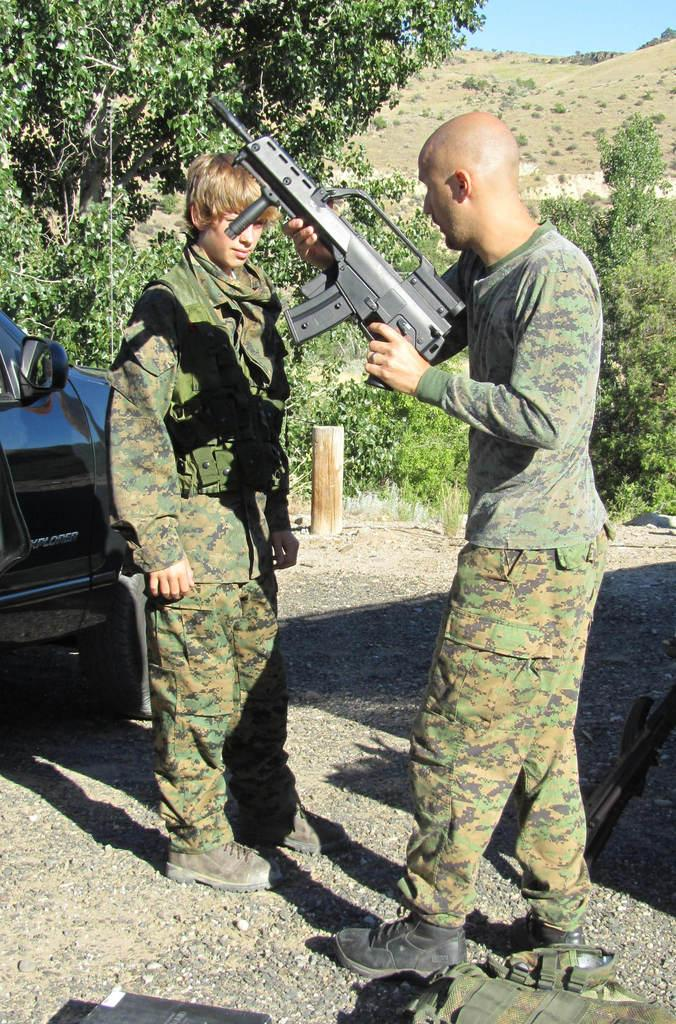Rifle: (205, 96, 470, 394)
